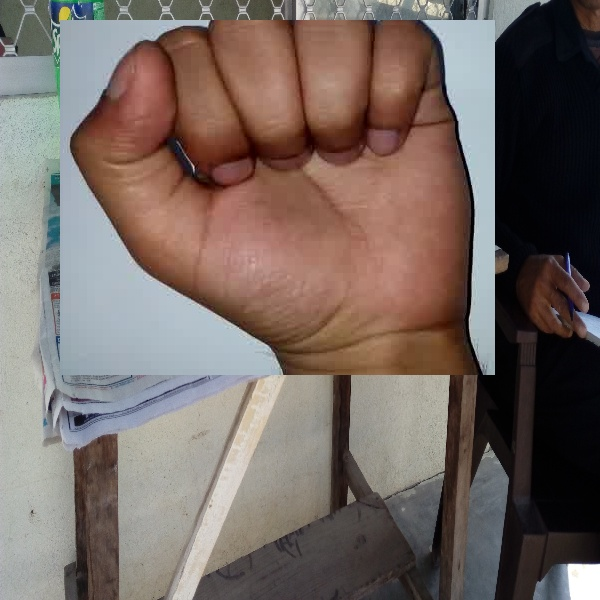A: (60, 20, 495, 375)
